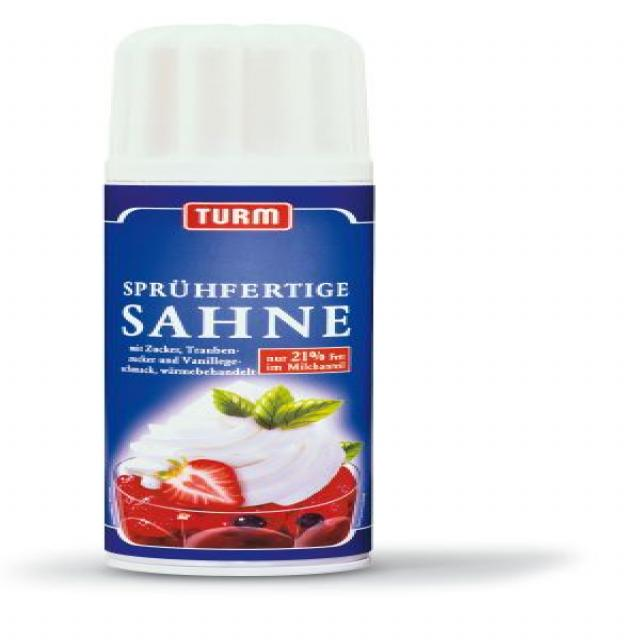Cream: (102, 25, 373, 577)
